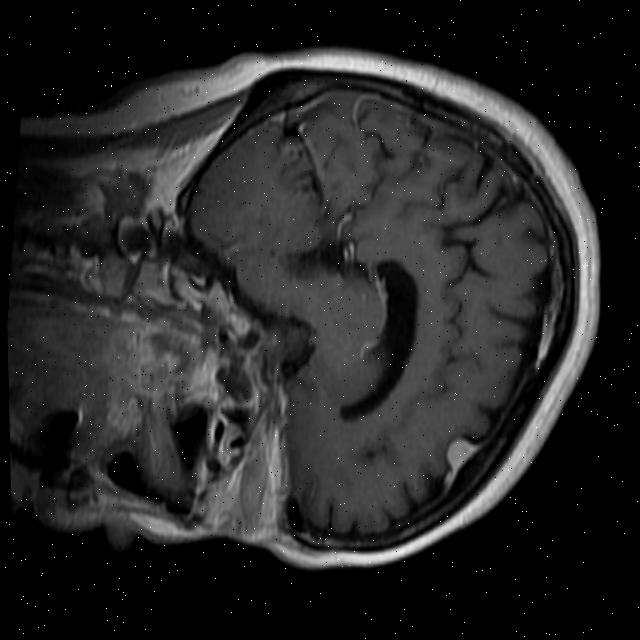Meningioma: (437, 435, 485, 494)
